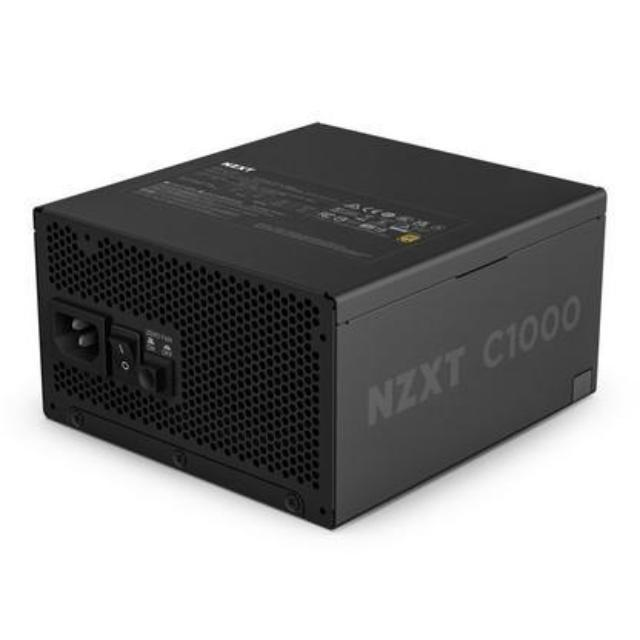PSU: (21, 120, 601, 532)
